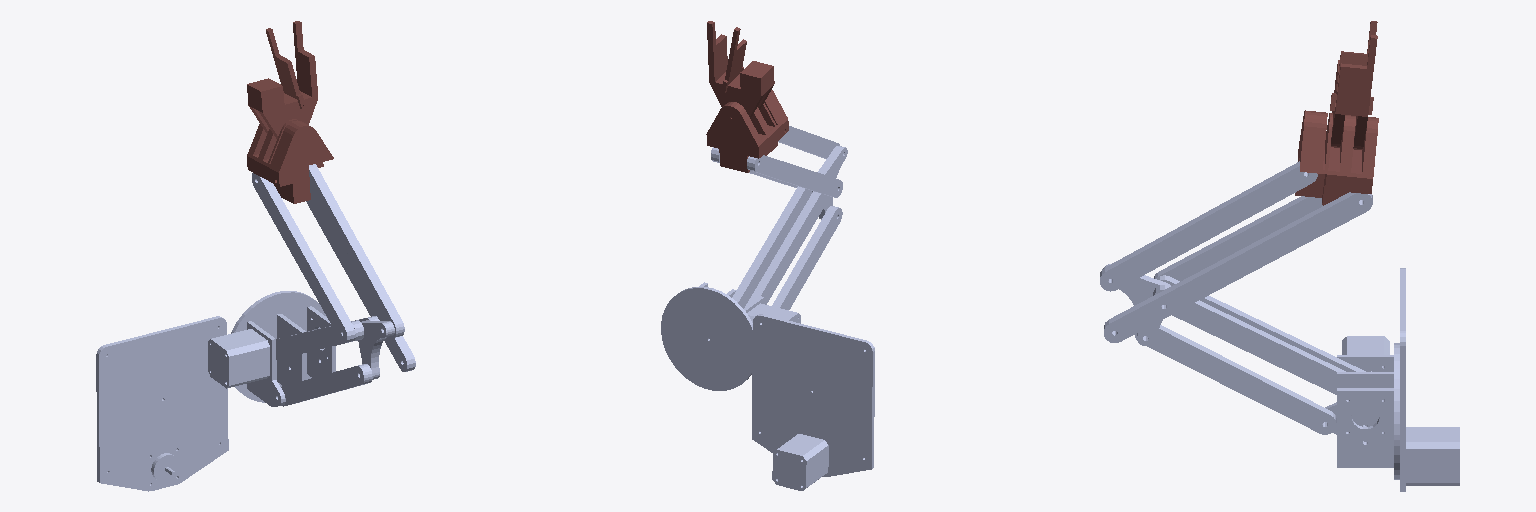
robot.urdf — Fridge-bot:
<?xml version="1.0" encoding="utf-8"?>
<!-- This URDF was automatically created by SolidWorks to URDF Exporter! Originally created by [author] ([email redacted]) 
     Commit Version: 1.6.0-4-g7f85cfe  Build Version: 1.6.7995.38578
     For more information, please see http://wiki.ros.org/sw_urdf_exporter -->
<robot
  name="Fridge-bot">
  <link name="world" />

  <joint name="world_to_base_link=" type="fixed">
    <parent link="world"/>
    <child link="base_link"/>
    <origin
        xyz="0 0 1"
        rpy="0 0 0" />
  </joint>
  <link
    name="base_link">
    <inertial>
      <origin
        xyz="0.065744341564924 0.045216580467112 0.0494910882181169"
        rpy="0 3.14 0" />
      <mass
        value="0.207046380810351" />
      <inertia
        ixx="0.000296100160478881"
        ixy="-2.96509727065676E-09"
        ixz="4.1481005406492E-07"
        iyy="0.000510587496763238"
        iyz="-2.58760118911616E-11"
        izz="0.000248571256331813" />
    </inertial>
    <visual>
      <origin
        xyz="0 0 0"
        rpy="0 3.14 0" />
      <geometry>
        <mesh
          filename="package://fridge_bot/src/meshes/base_link.STL" />
      </geometry>
      <material
        name="">
        <color
          rgba="0.792156862745098 0.819607843137255 0.933333333333333 1" />
      </material>
    </visual>
    <collision>
      <origin
        xyz="0 0 0"
        rpy="0 0 0" />
      <geometry>
        <mesh
          filename="package://fridge_bot/src/meshes/base_link.STL" />
      </geometry>
    </collision>
  </link>
  <link
    name="Turning_link">
    <inertial>
      <origin
        xyz="-0.0267697026327348 0.00488148698796461 0.0222183347728628"
        rpy="0 0 0" />
      <mass
        value="0.19237125582213" />
      <inertia
        ixx="0.000135901413995399"
        ixy="-1.33820761853295E-06"
        ixz="2.84315818360693E-06"
        iyy="0.000156555561267971"
        iyz="2.6996128156746E-06"
        izz="0.000197919660234674" />
    </inertial>
    <visual>
      <origin
        xyz="0 0 0"
        rpy="0 0 0" />
      <geometry>
        <mesh
          filename="package://fridge_bot/src/meshes/Turning_link.STL" />
      </geometry>
      <material
        name="">
        <color
          rgba="0.792156862745098 0.819607843137255 0.933333333333333 1" />
      </material>
    </visual>
    <collision>
      <origin
        xyz="0 0 0"
        rpy="0 0 0" />
      <geometry>
        <mesh
          filename="package://fridge_bot/src/meshes/Turning_link.STL" />
      </geometry>
    </collision>
  </link>
  <joint
    name="J1"
    type="revolute">
    <origin
      xyz="0.06605 0.032302 0.014542"
      rpy="1.5708 -0.0040186 0" />
    <parent
      link="base_link" />
    <child
      link="Turning_link" />
    <axis
      xyz="0 0 -1" />
    <limit
      lower="0"
      upper="6.28"
      effort="0"
      velocity="0" />
  </joint>
  <link
    name="Lower_backlink">
    <inertial>
      <origin
        xyz="0.0414635494994407 6.93889390390723E-18 0.00499999999999996"
        rpy="0 0 0" />
      <mass
        value="0.0193744467859455" />
      <inertia
        ixx="8.00416835228504E-07"
        ixy="-3.3881317890172E-21"
        ixz="4.52614911442815E-21"
        iyy="1.54913654040111E-05"
        iyz="1.88996064051875E-22"
        izz="1.59688747928072E-05" />
    </inertial>
    <visual>
      <origin
        xyz="0 0 0"
        rpy="0 0 0" />
      <geometry>
        <mesh
          filename="package://fridge_bot/src/meshes/Lower_backlink.STL" />
      </geometry>
      <material
        name="">
        <color
          rgba="0.792156862745098 0.819607843137255 0.933333333333333 1" />
      </material>
    </visual>
    <collision>
      <origin
        xyz="0 0 0"
        rpy="0 0 0" />
      <geometry>
        <mesh
          filename="package://fridge_bot/src/meshes/Lower_backlink.STL" />
      </geometry>
    </collision>
  </link>
  <joint
    name="J2"
    type="continuous">
    <origin
      xyz="-0.0225 -0.022855 0.065355"
      rpy="-1.5708 -1.0628 1.5708" />
    <parent
      link="Turning_link" />
    <child
      link="Lower_backlink" />
    <axis
      xyz="0 0 -1" />
  </joint>
  <link
    name="Link1">
    <inertial>
      <origin
        xyz="-2.35922392732846E-16 -0.0999111796922045 -0.00999999999999946"
        rpy="0 0 0" />
      <mass
        value="0.0855737940510451" />
      <inertia
        ixx="0.000328606447348668"
        ixy="-8.20986684126231E-19"
        ixz="-4.72153637505962E-22"
        iyy="3.53584860057504E-06"
        iyz="-2.15784962745792E-16"
        izz="0.000330716066048393" />
    </inertial>
    <visual>
      <origin
        xyz="0 0 0"
        rpy="0 0 0" />
      <geometry>
        <mesh
          filename="package://fridge_bot/src/meshes/Link1.STL" />
      </geometry>
      <material
        name="">
        <color
          rgba="0.792156862745098 0.819607843137255 0.933333333333333 1" />
      </material>
    </visual>
    <collision>
      <origin
        xyz="0 0 0"
        rpy="0 0 0" />
      <geometry>
        <mesh
          filename="package://fridge_bot/src/meshes/Link1.STL" />
      </geometry>
    </collision>
  </link>
  <joint
    name="J3"
    type="revolute">
    <origin
      xyz="-0.0275 0.0125 0.03"
      rpy="-1.5708 0.49038 1.5708" />
    <parent
      link="Turning_link" />
    <child
      link="Link1" />
    <axis
      xyz="0 0 -1" />
    <limit
      lower="0"
      upper="6.28"
      effort="0"
      velocity="0" />
  </joint>
  <link
    name="Triangle">
    <inertial>
      <origin
        xyz="0.0128671162531902 0.0149668569116932 0.005"
        rpy="0 0 0" />
      <mass
        value="0.0191246861766036" />
      <inertia
        ixx="5.62289539865078E-06"
        ixy="2.73395813990835E-06"
        ixz="-5.92896539083225E-22"
        iyy="4.65318566936927E-06"
        iyz="5.42998781656638E-22"
        izz="9.95733629840999E-06" />
    </inertial>
    <visual>
      <origin
        xyz="0 0 0"
        rpy="0 0 0" />
      <geometry>
        <mesh
          filename="package://fridge_bot/src/meshes/Triangle.STL" />
      </geometry>
      <material
        name="">
        <color
          rgba="0.792156862745098 0.819607843137255 0.933333333333333 1" />
      </material>
    </visual>
    <collision>
      <origin
        xyz="0 0 0"
        rpy="0 0 0" />
      <geometry>
        <mesh
          filename="package://fridge_bot/src/meshes/Triangle.STL" />
      </geometry>
    </collision>
  </link>
  <joint
    name="J4"
    type="continuous">
    <origin
      xyz="0 -0.2 -0.015"
      rpy="0 0 3.0193" />
    <parent
      link="Link1" />
    <child
      link="Triangle" />
    <axis
      xyz="0 0 1" />
  </joint>
  <link
    name="Upper_backlink">
    <inertial>
      <origin
        xyz="0.0414635494994406 5.55111512312578E-16 0.00499999999999998"
        rpy="0 0 0" />
      <mass
        value="0.0193744467859455" />
      <inertia
        ixx="8.00416835228507E-07"
        ixy="1.07467305182889E-20"
        ixz="9.79827535050522E-22"
        iyy="1.54913654040111E-05"
        iyz="-2.98745253902473E-22"
        izz="1.59688747928072E-05" />
    </inertial>
    <visual>
      <origin
        xyz="0 0 0"
        rpy="0 0 0" />
      <geometry>
        <mesh
          filename="package://fridge_bot/src/meshes/Upper_backlink.STL" />
      </geometry>
      <material
        name="">
        <color
          rgba="0.792156862745098 0.819607843137255 0.933333333333333 1" />
      </material>
    </visual>
    <collision>
      <origin
        xyz="0 0 0"
        rpy="0 0 0" />
      <geometry>
        <mesh
          filename="package://fridge_bot/src/meshes/Upper_backlink.STL" />
      </geometry>
    </collision>
  </link>
  <joint
    name="J5"
    type="continuous">
    <origin
      xyz="0.045 0 0.02"
      rpy="3.1416 0 -1.4308" />
    <parent
      link="Triangle" />
    <child
      link="Upper_backlink" />
    <axis
      xyz="0 0 -1" />
  </joint>
  <link
    name="Upper_frontLink">
    <inertial>
      <origin
        xyz="0.0463904561233811 -6.45872244575685E-14 7.9956874454723E-14"
        rpy="0 0 0" />
      <mass
        value="0.0214124502395769" />
      <inertia
        ixx="8.8417413172566E-07"
        ixy="-2.26226618343863E-17"
        ixz="3.03411185861136E-17"
        iyy="2.08029877158262E-05"
        iyz="-6.48649465622115E-23"
        izz="2.13302876768923E-05" />
    </inertial>
    <visual>
      <origin
        xyz="0 0 0"
        rpy="0 0 0" />
      <geometry>
        <mesh
          filename="package://fridge_bot/src/meshes/Upper_frontLink.STL" />
      </geometry>
      <material
        name="">
        <color
          rgba="0.792156862745098 0.819607843137255 0.933333333333333 1" />
      </material>
    </visual>
    <collision>
      <origin
        xyz="0 0 0"
        rpy="0 0 0" />
      <geometry>
        <mesh
          filename="package://fridge_bot/src/meshes/Upper_frontLink.STL" />
      </geometry>
    </collision>
  </link>
  <joint
    name="J6"
    type="continuous">
    <origin
      xyz="0 0.05 -0.005"
      rpy="3.1416 0 -2.48" />
    <parent
      link="Triangle" />
    <child
      link="Upper_frontLink" />
    <axis
      xyz="0 0 -1" />
  </joint>
  <link
    name="Link2">
    <inertial>
      <origin
        xyz="2.77555756156289E-17 -0.0863342210093204 0.0247054628952012"
        rpy="0 0 0" />
      <mass
        value="0.0953394410565643" />
      <inertia
        ixx="0.000470411650298866"
        ixy="5.4315987742682E-19"
        ixz="1.51753137276197E-21"
        iyy="3.95014826174653E-06"
        iyz="-3.09405752680569E-16"
        izz="0.000472772807876337" />
    </inertial>
    <visual>
      <origin
        xyz="0 0 0"
        rpy="0 0 0" />
      <geometry>
        <mesh
          filename="package://fridge_bot/src/meshes/Link2.STL" />
      </geometry>
      <material
        name="">
        <color
          rgba="0.792156862745098 0.819607843137255 0.933333333333333 1" />
      </material>
    </visual>
    <collision>
      <origin
        xyz="0 0 0"
        rpy="0 0 0" />
      <geometry>
        <mesh
          filename="package://fridge_bot/src/meshes/Link2.STL" />
      </geometry>
    </collision>
  </link>
  <joint
    name="J7"
    type="revolute">
    <origin
      xyz="0 -0.2 0.01"
      rpy="3.1416 0 -1.0177" />
    <parent
      link="Link1" />
    <child
      link="Link2" />
    <axis
      xyz="0 0 -1" />
    <limit
      lower="0"
      upper="6.28"
      effort="0"
      velocity="0" />
  </joint>
  <link
    name="Back_gripper">
    <inertial>
      <origin
        xyz="-0.0250028133017936 0.0239301160957177 0.00141734074678103"
        rpy="0 0 0" />
      <mass
        value="1.53802958602338" />
      <inertia
        ixx="0.000909413538569685"
        ixy="8.26533997142431E-05"
        ixz="-2.76680034671548E-05"
        iyy="0.000912566548096114"
        iyz="-4.94357740447193E-05"
        izz="0.00115501581802408" />
    </inertial>
    <visual>
      <origin
        xyz="0 0 0"
        rpy="0 0 0" />
      <geometry>
        <mesh
          filename="package://fridge_bot/src/meshes/Back_gripper.STL" />
      </geometry>
      <material
        name="">
        <color
          rgba="0.537254901960784 0.349019607843137 0.337254901960784 1" />
      </material>
    </visual>
    <collision>
      <origin
        xyz="0 0 0"
        rpy="0 0 0" />
      <geometry>
        <mesh
          filename="package://fridge_bot/src/meshes/Back_gripper.STL" />
      </geometry>
    </collision>
  </link>
  <joint
    name="J8"
    type="continuous">
    <origin
      xyz="0 -0.2 0.022327"
      rpy="3.1416 0 2.5048" />
    <parent
      link="Link2" />
    <child
      link="Back_gripper" />
    <axis
      xyz="0 0 1" />
  </joint>
  <link
    name="front_halfgripper">
    <inertial>
      <origin
        xyz="-0.000216464748702024 0.0283235783013315 0.0142900639859031"
        rpy="0 0 0" />
      <mass
        value="0.558596679661737" />
      <inertia
        ixx="0.000309404274315498"
        ixy="-3.91459968046766E-05"
        ixz="3.65468624887361E-06"
        iyy="0.000256279098899188"
        iyz="8.07700601429671E-06"
        izz="0.00046459335100017" />
    </inertial>
    <visual>
      <origin
        xyz="0 0 0"
        rpy="0 0 0" />
      <geometry>
        <mesh
          filename="package://fridge_bot/src/meshes/front_halfgripper.STL" />
      </geometry>
      <material
        name="">
        <color
          rgba="0.537254901960784 0.349019607843137 0.337254901960784 1" />
      </material>
    </visual>
    <collision>
      <origin
        xyz="0 0 0"
        rpy="0 0 0" />
      <geometry>
        <mesh
          filename="package://fridge_bot/src/meshes/front_halfgripper.STL" />
      </geometry>
    </collision>
  </link>
  <joint
    name="J9"
    type="revolute">
    <origin
      xyz="-0.054 0.0035 -8.2845E-05"
      rpy="1.5708 1.5515 -3.1416" />
    <parent
      link="Back_gripper" />
    <child
      link="front_halfgripper" />
    <axis
      xyz="0 0.00012782 1" />
    <limit
      lower="0"
      upper="6.28"
      effort="0"
      velocity="0" />
  </joint>
  <link
    name="gripper">
    <inertial>
      <origin
        xyz="0.0309607104904638 -4.59355418679364E-05 0.017144407490665"
        rpy="0 0 0" />
      <mass
        value="0.0686737389522782" />
      <inertia
        ixx="6.40644623542164E-06"
        ixy="-1.58915253493507E-10"
        ixz="3.10523081266725E-06"
        iyy="2.87092893917181E-05"
        iyz="3.68993537350604E-11"
        izz="2.25895985442529E-05" />
    </inertial>
    <visual>
      <origin
        xyz="0 0 0"
        rpy="0 0 0" />
      <geometry>
        <mesh
          filename="package://fridge_bot/src/meshes/gripper.STL" />
      </geometry>
      <material
        name="">
        <color
          rgba="0.537254901960784 0.349019607843137 0.337254901960784 1" />
      </material>
    </visual>
    <collision>
      <origin
        xyz="0 0 0"
        rpy="0 0 0" />
      <geometry>
        <mesh
          filename="package://fridge_bot/src/gripper.STL" />
      </geometry>
    </collision>
  </link>
  <joint
    name="J10"
    type="revolute">
    <origin
      xyz="0.012523 0.027447 -0.004"
      rpy="0 0 1.7772" />
    <parent
      link="front_halfgripper" />
    <child
      link="gripper" />
    <axis
      xyz="-0.0001246 2.8609E-05 -1" />
    <limit
      lower="0"
      upper="6.28"
      effort="0"
      velocity="0" />
  </joint>
  <link
    name="Lower_frontlink">
    <inertial>
      <origin
        xyz="0.0463904561233882 -6.10067552031524E-14 7.99707522425308E-14"
        rpy="0 0 0" />
      <mass
        value="0.0214124502395769" />
      <inertia
        ixx="8.84174131725665E-07"
        ixy="-2.26162561477226E-17"
        ixz="3.03388488913352E-17"
        iyy="2.08029877158262E-05"
        iyz="8.13942229557454E-23"
        izz="2.13302876768922E-05" />
    </inertial>
    <visual>
      <origin
        xyz="0 0 0"
        rpy="0 0 0" />
      <geometry>
        <mesh
          filename="package://fridge_bot/src/meshes/Lower_frontlink.STL" />
      </geometry>
      <material
        name="">
        <color
          rgba="0.792156862745098 0.819607843137255 0.933333333333333 1" />
      </material>
    </visual>
    <collision>
      <origin
        xyz="0 0 0"
        rpy="0 0 0" />
      <geometry>
        <mesh
          filename="package://fridge_bot/src/meshes/Lower_frontlink.STL" />
      </geometry>
    </collision>
  </link>
  <joint
    name="J11"
    type="continuous">
    <origin
      xyz="-0.015 0.05 -0.0074928"
      rpy="-3.1416 0 0.92013" />
    <parent
      link="Back_gripper" />
    <child
      link="Lower_frontlink" />
    <axis
      xyz="0 0 -1" />
  </joint>
</robot>

--- Render facts (derived) ---
3 views of the same robot in one strip: view 1: azimuth 30°, elevation 25°; view 2: azimuth 150°, elevation 25°; view 3: azimuth 270°, elevation 25° (orthographic).
Robot: Fridge-bot — 13 links, 12 joints (5 revolute, 6 continuous, 1 fixed); root link world; default pose: every joint at zero.
Links seen in each view (by area): view 1: base_link, Turning_link, Link2, Back_gripper, front_halfgripper, Upper_frontLink, Lower_frontlink, Link1, Triangle, Upper_backlink, gripper, Lower_backlink; view 2: base_link, Turning_link, Link1, Back_gripper, front_halfgripper, Link2, Upper_backlink, gripper, Upper_frontLink, Triangle, Lower_backlink; view 3: Link2, Turning_link, Link1, Back_gripper, base_link, Upper_frontLink, Lower_frontlink, Lower_backlink, front_halfgripper, Upper_backlink, Triangle, gripper.
Link boxes in pixels (box(x1,y1,x2,y2)): base_link: box(96, 316, 228, 491); Turning_link: box(208, 291, 335, 406); Link2: box(252, 173, 415, 371); Back_gripper: box(247, 119, 333, 203); front_halfgripper: box(247, 21, 317, 138); Upper_frontLink: box(346, 243, 404, 337); Lower_frontlink: box(309, 164, 358, 255); Link1: box(276, 316, 379, 359); Triangle: box(358, 320, 394, 379); Upper_backlink: box(318, 364, 372, 395); gripper: box(266, 28, 305, 109); Lower_backlink: box(281, 377, 324, 406); base_link: box(752, 314, 874, 490); Turning_link: box(661, 282, 800, 390); Link1: box(732, 186, 829, 308); Back_gripper: box(706, 90, 788, 172); front_halfgripper: box(707, 21, 774, 118); Link2: box(711, 147, 842, 197); Upper_backlink: box(792, 206, 842, 284); gripper: box(721, 27, 746, 93); Upper_frontLink: box(790, 129, 839, 158); Triangle: box(812, 146, 847, 219); Lower_backlink: box(772, 272, 803, 309); Link2: box(1104, 192, 1372, 342); Turning_link: box(1325, 336, 1399, 479); Link1: box(1153, 275, 1365, 394); Back_gripper: box(1295, 110, 1378, 205); base_link: box(1400, 268, 1459, 491); Upper_frontLink: box(1100, 214, 1214, 291); Lower_frontlink: box(1203, 161, 1317, 235); Lower_backlink: box(1230, 366, 1336, 434); front_halfgripper: box(1331, 35, 1377, 149); Upper_backlink: box(1135, 325, 1240, 387); Triangle: box(1103, 264, 1170, 345); gripper: box(1330, 21, 1377, 114).
Size in the robot's own frame: 0.2677 by 0.316 by 0.4954 metres.
12 mesh visuals loaded from 12 distinct referenced files (12 binary STL).